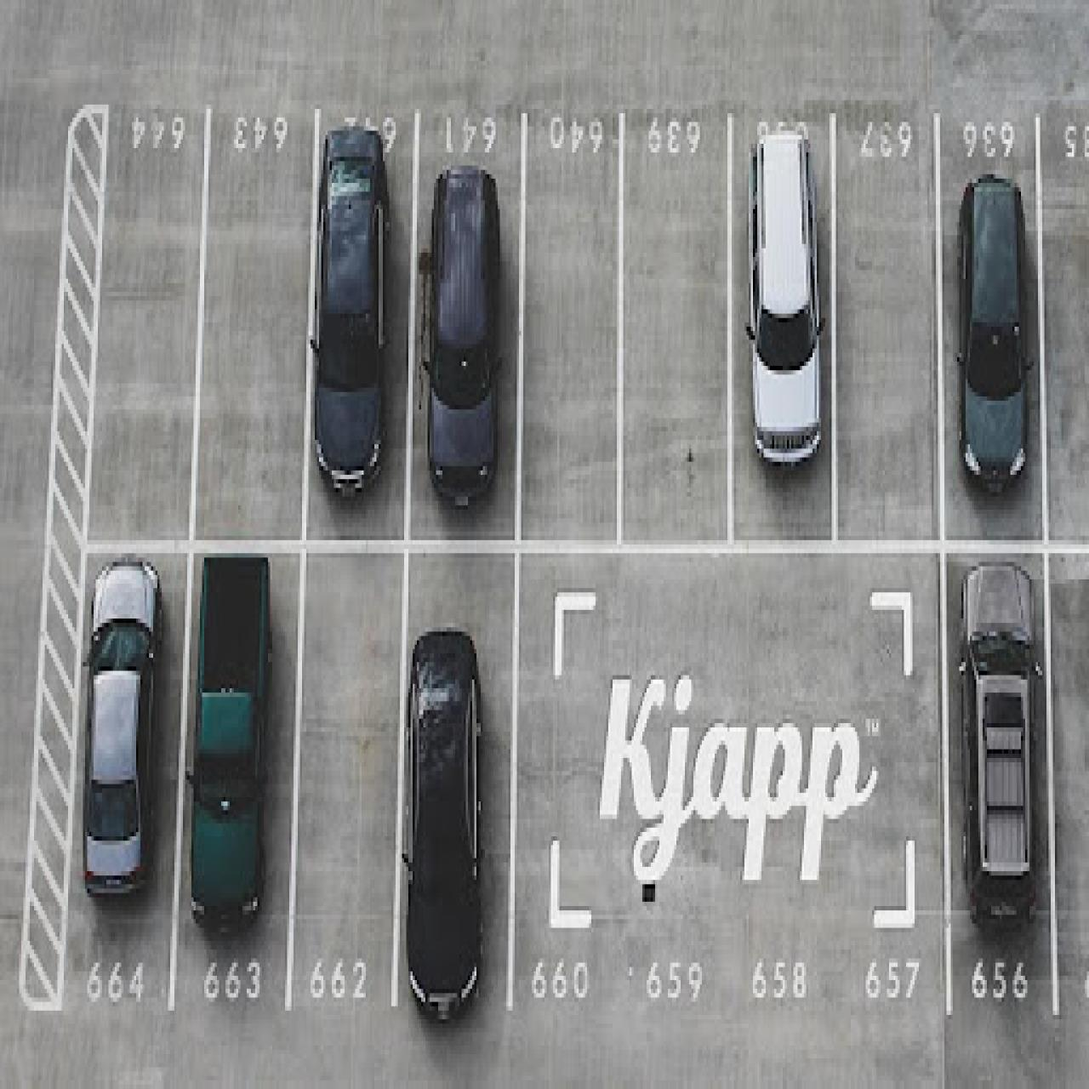cars: (932, 540, 1055, 1024), (396, 544, 513, 1023), (179, 525, 294, 1008), (65, 538, 180, 991), (403, 111, 522, 547), (301, 120, 416, 507), (935, 126, 1041, 536), (727, 107, 831, 512)
empty: (724, 544, 843, 1015), (614, 544, 729, 1028), (189, 118, 323, 523), (292, 538, 405, 1013), (515, 551, 630, 1000), (80, 109, 205, 518), (613, 100, 727, 531), (842, 544, 944, 1019), (835, 115, 945, 525), (512, 126, 621, 531)
